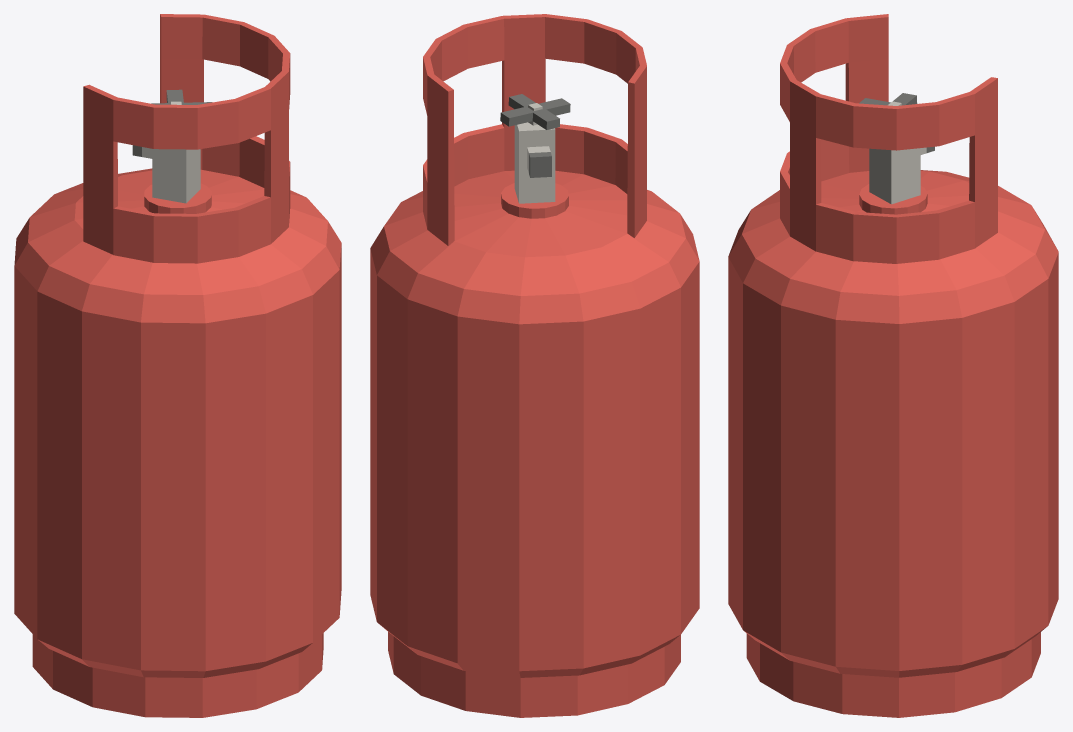
Rendered from GasBalloon1.fbx.
3 views of the same model, side by side, from view 1: azimuth 30°, elevation 25°; view 2: azimuth 150°, elevation 25°; view 3: azimuth 270°, elevation 25° (orthographic).
Parts seen in each view (by area): view 1: GasBalloon1; view 2: GasBalloon1; view 3: GasBalloon1.
Boxes of the visible parts, x1=… form: GasBalloon1: x1=14, y1=14, x2=341, y2=717; GasBalloon1: x1=370, y1=14, x2=699, y2=717; GasBalloon1: x1=728, y1=14, x2=1058, y2=717.
Bounding box in the file's own units: 76.47 × 152 × 76.47.
